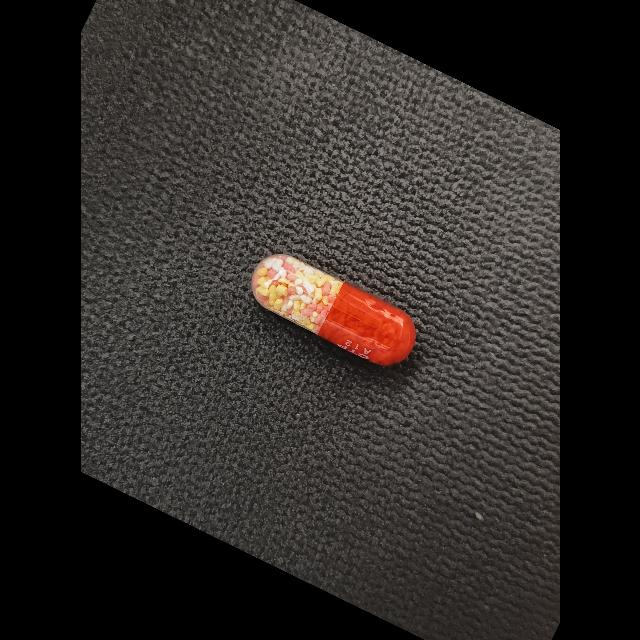Intact Capsule: (251, 254, 416, 365)
